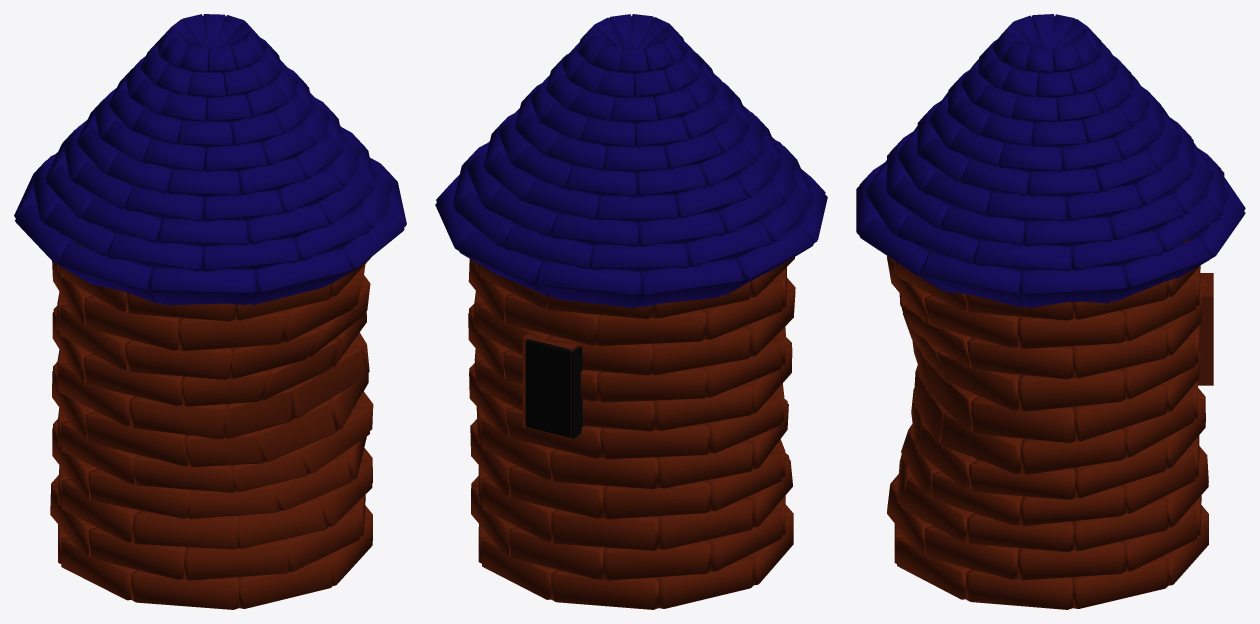
File: tower 2.fbx
The picture shows the model from 3 angles, left to right: view 1: azimuth 30°, elevation 25°; view 2: azimuth 150°, elevation 25°; view 3: azimuth 270°, elevation 25°; orthographic projection.
Visible parts, largest first — view 1: Cube, Cube.001; view 2: Cube, Cube.001, Cube.002; view 3: Cube, Cube.001.
Part boxes in pixels (<box>): Cube: <box>50,242,373,609</box>; Cube.001: <box>14,14,406,305</box>; Cube: <box>468,257,795,609</box>; Cube.001: <box>435,14,827,307</box>; Cube.002: <box>525,339,583,438</box>; Cube: <box>887,237,1213,609</box>; Cube.001: <box>856,14,1245,307</box>.
Bounding box in the file's own units: 1405 × 2017 × 1391.
